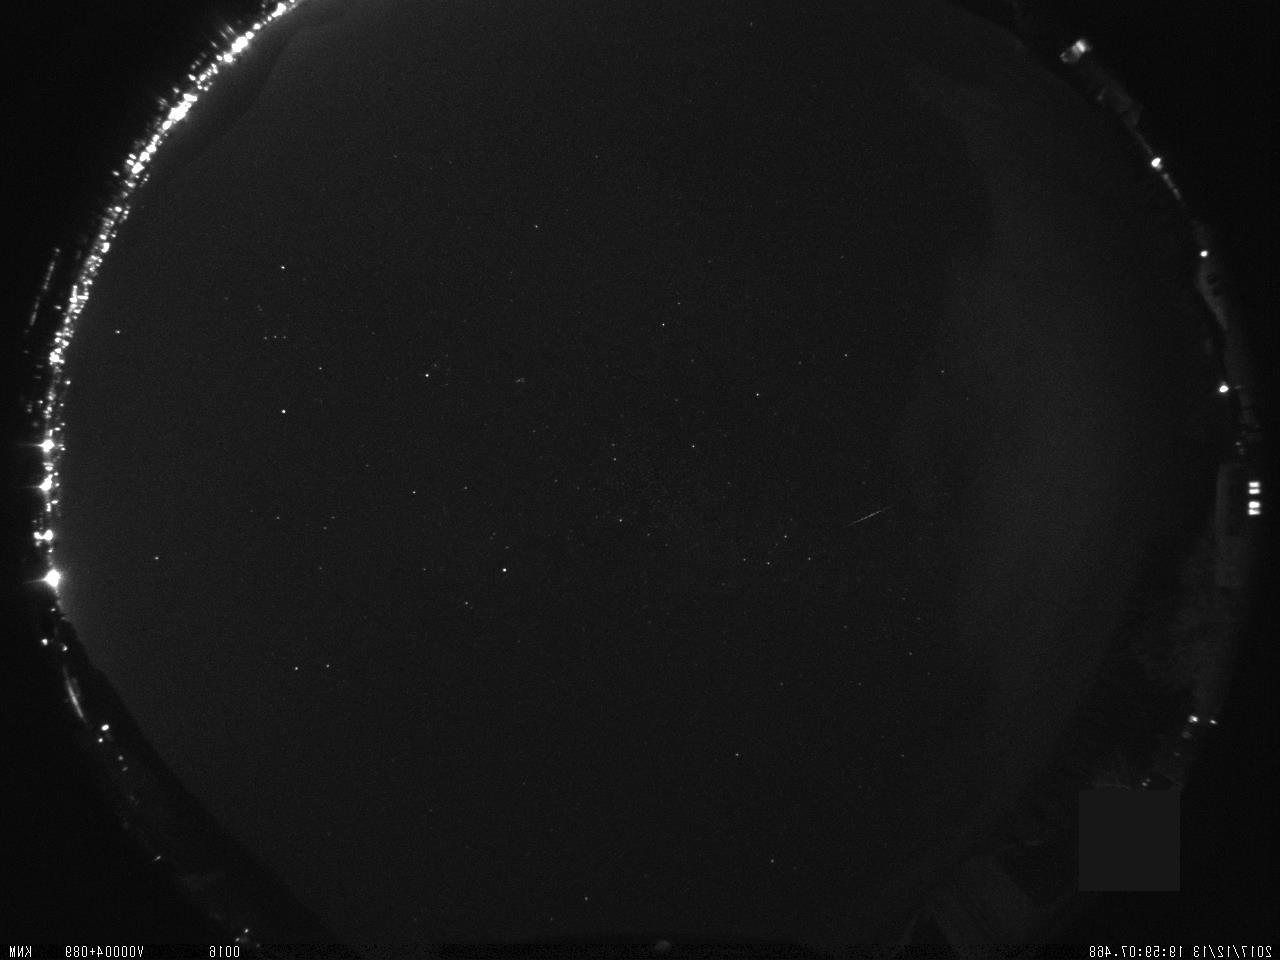meteor: (832, 495, 902, 536)
